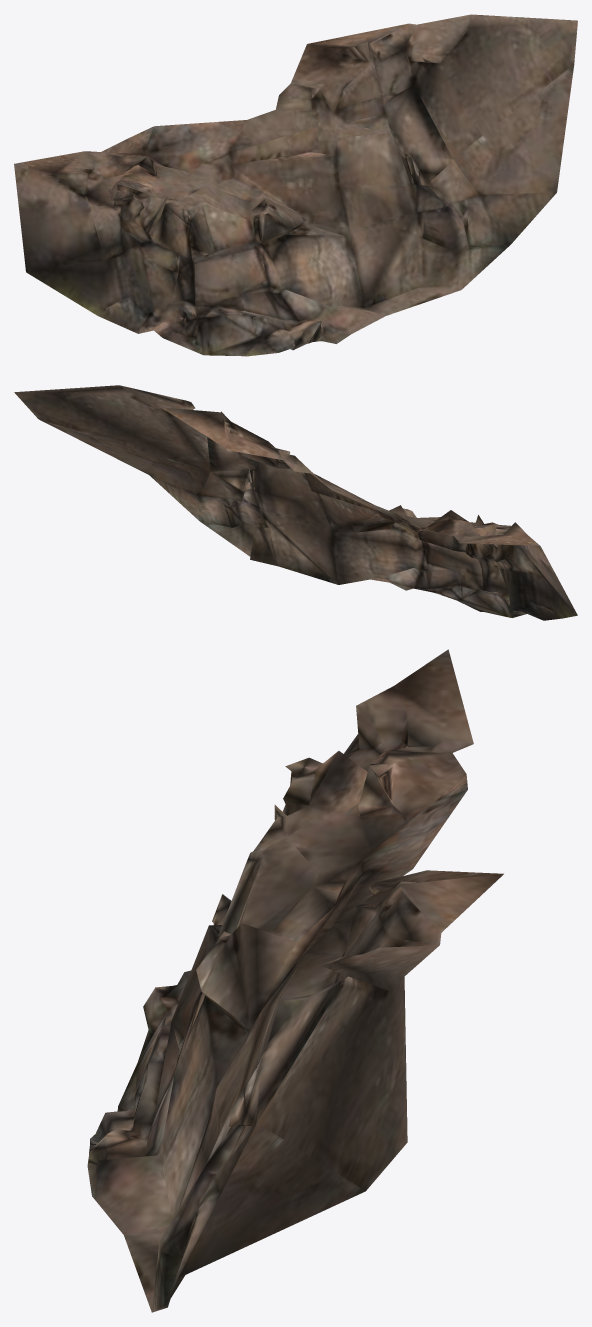
Rendered from namaqualand_cliff_02_lod1.glb.
3 renders of one model, top to bottom at view 1: azimuth 30°, elevation 25°; view 2: azimuth 150°, elevation 25°; view 3: azimuth 270°, elevation 25°, orthographic. The views are drawn at different scales.
Visible parts, largest first — view 1: drone_rock_02_LOD0; view 2: drone_rock_02_LOD0; view 3: drone_rock_02_LOD0.
Part boxes in pixels (x1,y1,x2,y2): drone_rock_02_LOD0: (14, 14, 577, 356); drone_rock_02_LOD0: (14, 385, 577, 620); drone_rock_02_LOD0: (87, 649, 503, 1312).
Bounding box in the file's own units: 19.46 × 7.16 × 6.39.
1 material, 1 textured.
